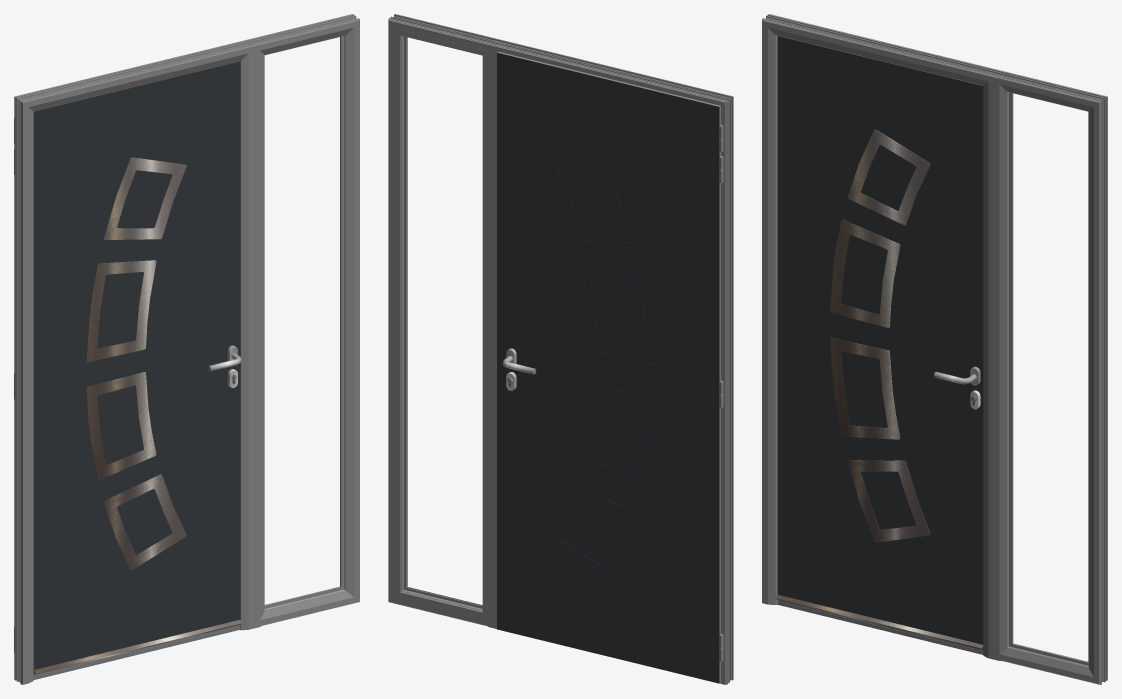
The picture shows the model from 3 angles, left to right: view 1: azimuth 30°, elevation 25°; view 2: azimuth 150°, elevation 25°; view 3: azimuth 330°, elevation 25°; orthographic projection.
Visible parts, largest first — view 1: bloco_107, Rectangle002, Line004, alunox_064, Object, Object001, Line005, Rectangle005, Rectangle003; view 2: bloco_107, Rectangle002, Rectangle003, Line004, Object001, Rectangle004, Object; view 3: bloco_107, Rectangle002, Line004, alunox_064, Object001, Object, Line005, Rectangle003, Rectangle005.
Part boxes in pixels (x1,y1,x2,y2): bloco_107: (33,61,240,671); Rectangle002: (14,14,359,684); Line004: (240,46,264,630); alunox_064: (86,157,186,570); Object: (33,35,346,680); Object001: (264,36,344,608); Line005: (33,620,242,674); Rectangle005: (33,625,240,679); Rectangle003: (264,37,340,605); bloco_107: (497,52,719,683); Rectangle002: (388,14,733,684); Rectangle003: (394,28,487,619); Line004: (488,41,504,628); Object001: (401,36,482,610); Rectangle004: (496,51,720,683); Object: (404,36,482,608); bloco_107: (777,36,983,644); Rectangle002: (762,14,1107,684); Line004: (983,77,1007,661); alunox_064: (830,129,930,542); Object001: (1007,92,1088,665); Object: (776,35,1088,667); Line005: (775,595,983,649); Rectangle003: (1012,93,1087,662); Rectangle005: (777,600,983,654).
Bounding box in the file's own units: 1307 × 2150 × 192.
Materials: 6 (4 with a texture image).
